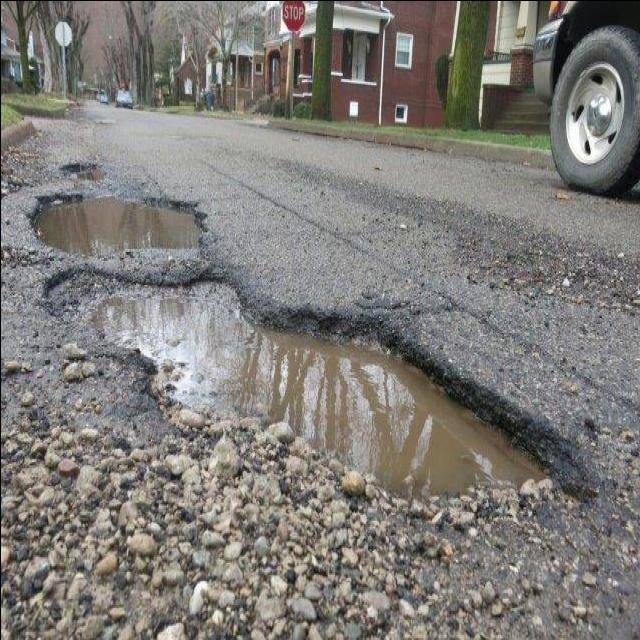jalan retak: (381, 258, 640, 445), (188, 139, 418, 279)
lubang: (55, 262, 583, 534), (27, 188, 218, 270), (40, 250, 90, 316), (58, 156, 107, 182)
